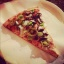pizza: (5, 7, 57, 57)
